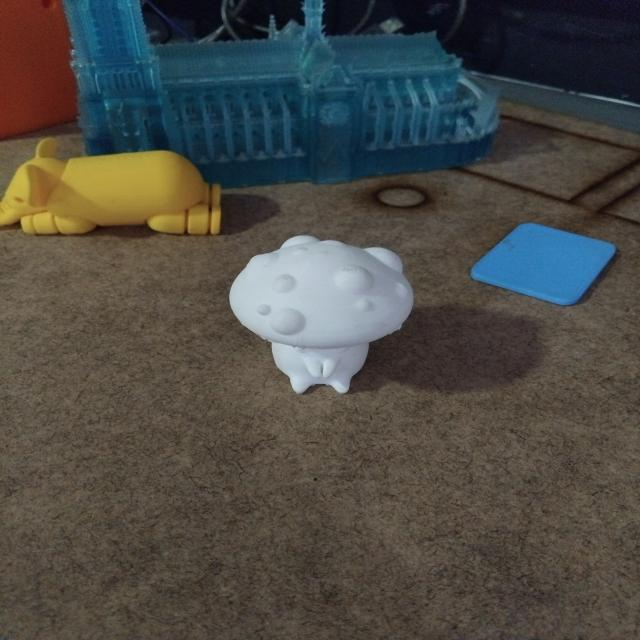Hongo: (220, 233, 421, 401)
